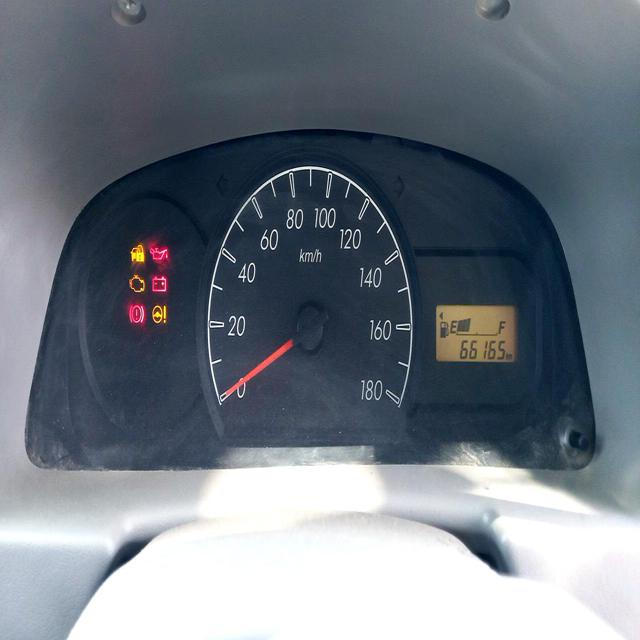odometer: (458, 336, 507, 360)
